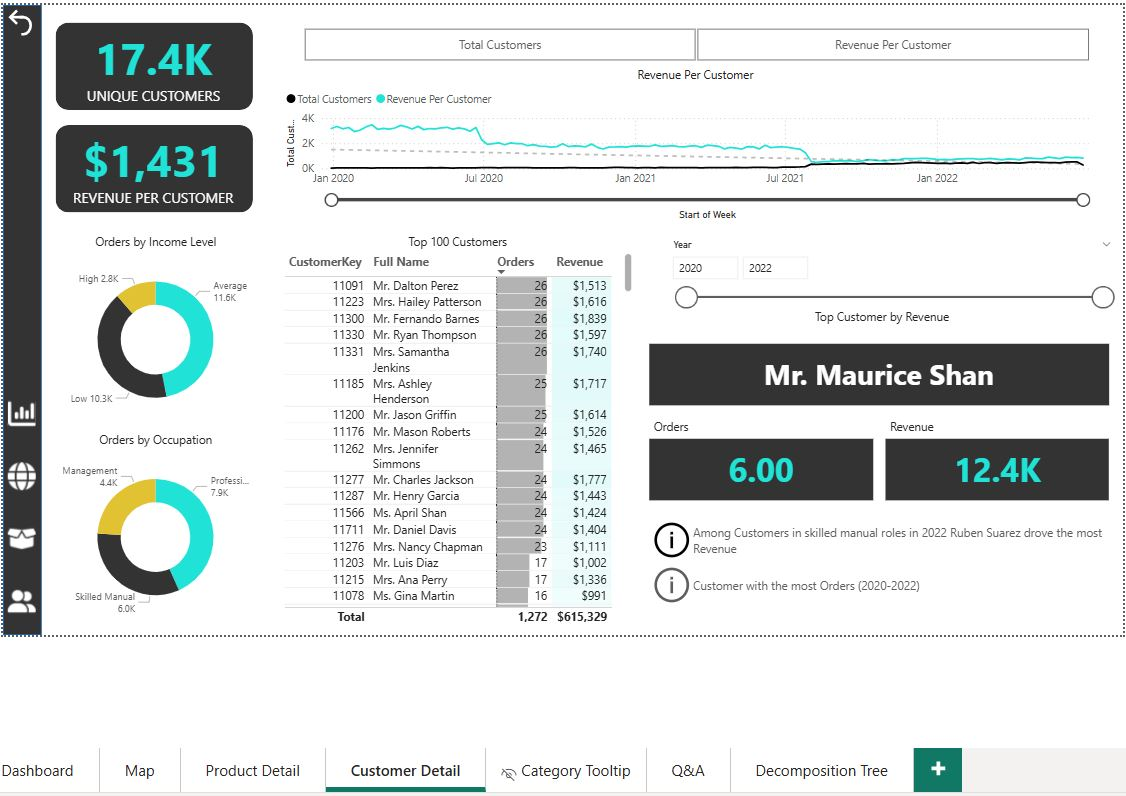

Layout of this report page (visuals, bound fields, positions):
{"tool":"powerbi","page":{"name":"Customer Detail","canvas":[1280,720],"ordinal":3},"visuals":[{"type":"shape","title":"Left Nav. Background","box":[0,0,44.3,720],"z":0},{"type":"group","id":"g1","title":"KPI Backgrounds","box":[59.9,20.5,226.2,216.5],"z":0,"group":"g2"},{"type":"shape","box":[60.4,20.5,225.7,100],"z":0,"group":"g1"},{"type":"card","fields":{"Values":["Mesure Table.Average Revenue Per Customer"]},"box":[56.1,122.5,232.5,130],"z":0,"group":"g3"},{"type":"actionButton","box":[1,590,44.3,40],"z":0,"group":"g4"},{"type":"group","id":"g2","title":"KPI's ","box":[56.1,4.8,232.9,247.7],"z":1000},{"type":"group","id":"g3","title":"KPI Values","box":[56.1,4.8,232.9,247.7],"z":1000,"group":"g2"},{"type":"card","fields":{"Values":["Mesure Table.Total Customers"]},"box":[56.1,4.8,232.9,130],"z":1000,"group":"g3"},{"type":"shape","box":[59.9,137,225.7,100],"z":1000,"group":"g1"},{"type":"actionButton","box":[1,447.1,48.9,40],"z":1000,"group":"g4"},{"type":"lineChart","fields":{"Y":["Mesure Table.Total Customers","Mesure Table.Average Revenue Per Customer"],"Category":["Calendar Lookup.Date Hierarchy.Start of Year","Calendar Lookup.Date Hierarchy.Start of Month","Calendar Lookup.Date Hierarchy.Start of Week","Calendar Lookup.Date Hierarchy.Date"]},"box":[318.8,70,945,180],"z":2000},{"type":"actionButton","box":[1,661.4,44.3,40],"z":2000,"group":"g4"},{"type":"donutChart","title":" Orders by Income Level","fields":{"Y":["Mesure Table.Total Orders"],"Category":["Customer Lookup.Income Level"]},"box":[60.7,262.1,229,224.9],"z":3000},{"type":"actionButton","box":[1,518.5,44.3,40],"z":3000,"group":"g4"},{"type":"donutChart","title":" Orders by Occupation","fields":{"Y":["Mesure Table.Total Orders"],"Category":["Customer Lookup.Occupation"]},"box":[60.7,487,229,224.9],"z":4000},{"type":"tableEx","title":"Top 100 Customers","fields":{"Values":["Customer Lookup.CustomerKey","Customer Lookup.Full Name","Mesure Table.Total Orders","Mesure Table.Total Revenue"]},"box":[316.4,261.4,408,450.8],"z":5000},{"type":"card","fields":{"Values":["Mesure Table.Full Name (Customer Detail)"]},"box":[738.8,387.8,525.7,70],"z":6000},{"type":"textbox","box":[923,341,207.1,37.1],"z":7000},{"type":"card","fields":{"Values":["Mesure Table.Total Orders (Customer detail)"]},"box":[739,495.8,255.7,70],"z":8000},{"type":"card","fields":{"Values":["Mesure Table.Total Revenue (Customer Detail)"]},"box":[1008.8,495.5,255.6,70],"z":9000},{"type":"textbox","box":[738.7,466.5,207.1,37.1],"z":10000},{"type":"textbox","box":[1008.7,466.5,164.3,37.1],"z":11000},{"type":"slicer","fields":{"Values":["Calendar Lookup.Year"]},"box":[753,263.4,525.7,94.3],"z":12000},{"type":"actionButton","box":[738.7,637.3,525.7,51.4],"z":13000},{"type":"actionButton","box":[0,0,44.3,40],"z":14000},{"type":"actionButton","box":[738.7,585.9,525.7,51.4],"z":15000},{"type":"group","id":"g4","title":"Navigation Buttons","box":[1,447.1,48.9,254.3],"z":16000},{"type":"slicer","fields":{"Values":["Parameter.Parameter"]},"box":[318.8,20,946.2,50],"z":17000}]}

Visuals, with their boxes on the page's 1280x720 design canvas (x1, y1, x2, y2). These are canvas units, not pixel positions in the 1126x796 screenshot, which may show the page scaled, cropped or inside an application window:
"Left Nav. Background" shape: x1=0, y1=0, x2=44, y2=720
"KPI Backgrounds" group: x1=60, y1=20, x2=286, y2=237
shape: x1=60, y1=20, x2=286, y2=120
card - Mesure Table.Average Revenue Per Customer: x1=56, y1=122, x2=289, y2=252
actionButton: x1=1, y1=590, x2=45, y2=630
"KPI's " group: x1=56, y1=5, x2=289, y2=252
"KPI Values" group: x1=56, y1=5, x2=289, y2=252
card - Mesure Table.Total Customers: x1=56, y1=5, x2=289, y2=135
shape: x1=60, y1=137, x2=286, y2=237
actionButton: x1=1, y1=447, x2=50, y2=487
lineChart - Mesure Table.Total Customers x Mesure Table.Average Revenue Per Customer: x1=319, y1=70, x2=1264, y2=250
actionButton: x1=1, y1=661, x2=45, y2=701
" Orders by Income Level" donutChart: x1=61, y1=262, x2=290, y2=487
actionButton: x1=1, y1=518, x2=45, y2=558
" Orders by Occupation" donutChart: x1=61, y1=487, x2=290, y2=712
"Top 100 Customers" tableEx: x1=316, y1=261, x2=724, y2=712
card - Mesure Table.Full Name (Customer Detail): x1=739, y1=388, x2=1264, y2=458
textbox: x1=923, y1=341, x2=1130, y2=378
card - Mesure Table.Total Orders (Customer detail): x1=739, y1=496, x2=995, y2=566
card - Mesure Table.Total Revenue (Customer Detail): x1=1009, y1=496, x2=1264, y2=566
textbox: x1=739, y1=466, x2=946, y2=504
textbox: x1=1009, y1=466, x2=1173, y2=504
slicer - Calendar Lookup.Year: x1=753, y1=263, x2=1279, y2=358
actionButton: x1=739, y1=637, x2=1264, y2=689
actionButton: x1=0, y1=0, x2=44, y2=40
actionButton: x1=739, y1=586, x2=1264, y2=637
"Navigation Buttons" group: x1=1, y1=447, x2=50, y2=701
slicer - Parameter.Parameter: x1=319, y1=20, x2=1265, y2=70
